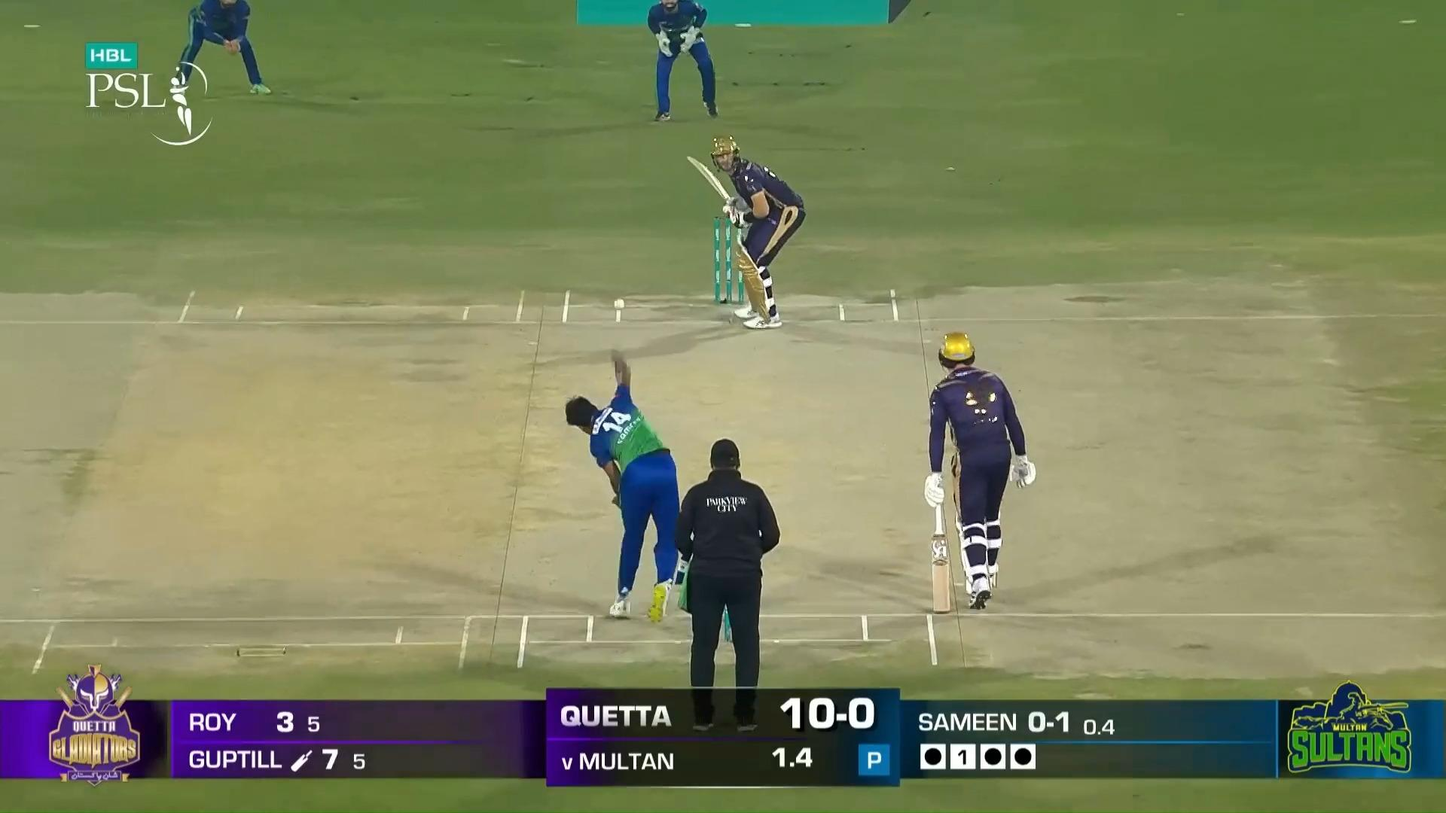batsman: (686, 136, 806, 331)
